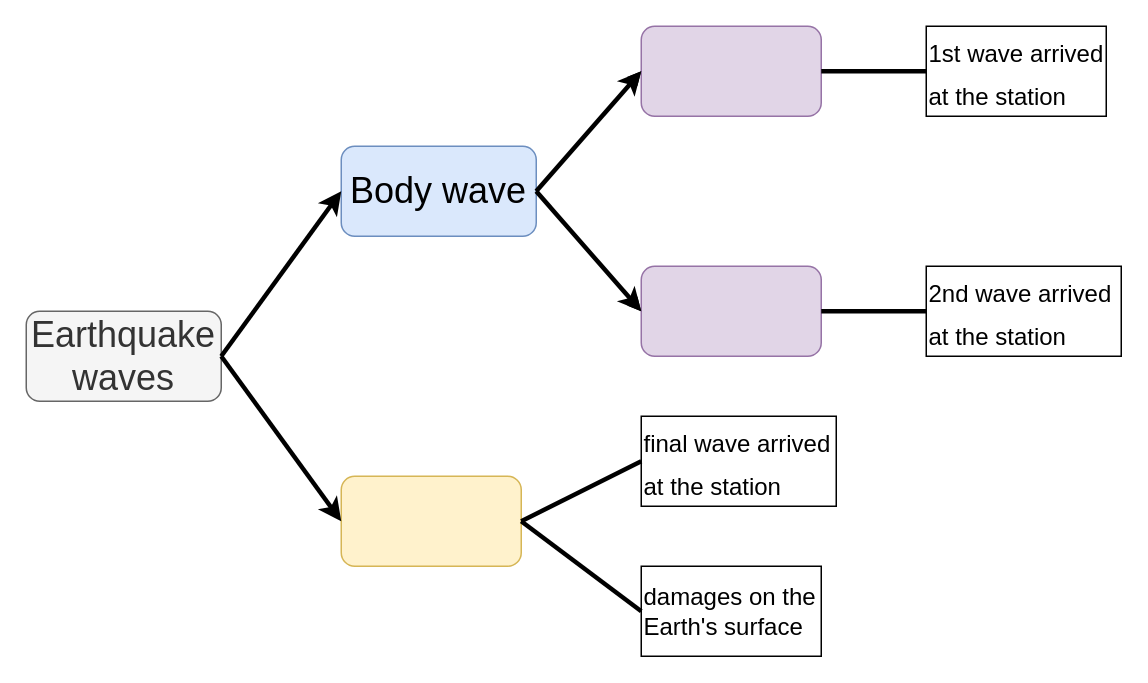
The diagram is 1148 pixels wide and 683 high, and some of its shapes have lost their labels. The shapes that lost their labels are listed below. From the top down, each one's box as (x1, y1, x2, y2) in pixels, then its label:
(640, 25, 821, 116): P-wave
(640, 265, 821, 356): S-wave
(340, 475, 521, 566): Surface Wave
